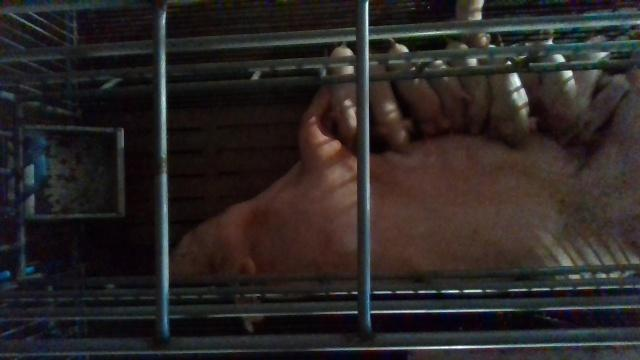piglet: (385, 38, 451, 137), (481, 43, 539, 152), (521, 35, 576, 141), (445, 37, 492, 134), (575, 70, 630, 148), (369, 62, 412, 152), (328, 46, 359, 150), (576, 33, 610, 105), (448, 0, 490, 47)
sow-sleep-lactate: (168, 85, 640, 287)
